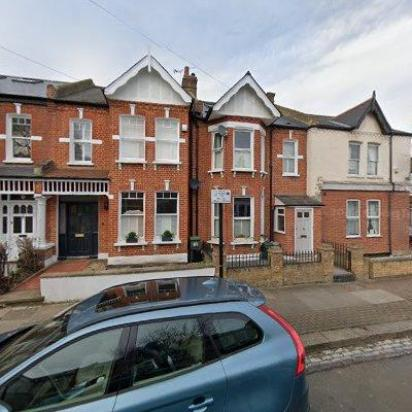stationary-car-onstreet: (0, 273, 312, 411)
